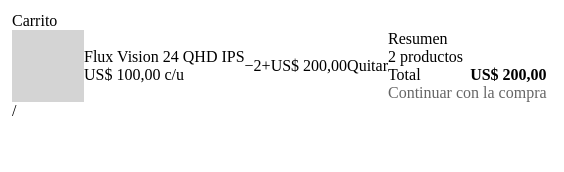
Scenario: CartContainer › calls the API when the quantity changes and renders the server cart
Click the button named "Agregar una unidad de Flux Vision 24 QHD IPS".
click(266, 66)  # box left=262, top=57, right=271, bottom=75
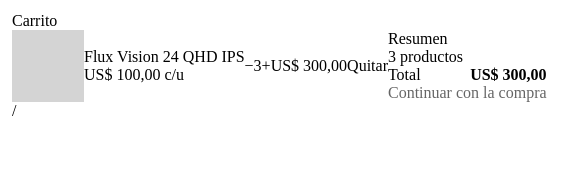
Expected: the text "US$ 300,00" is shown 2 times, left=271, top=57, right=347, bottom=75; left=470, top=66, right=547, bottom=84
Expected: the text "3 productos" is shown, left=388, top=48, right=463, bottom=65
